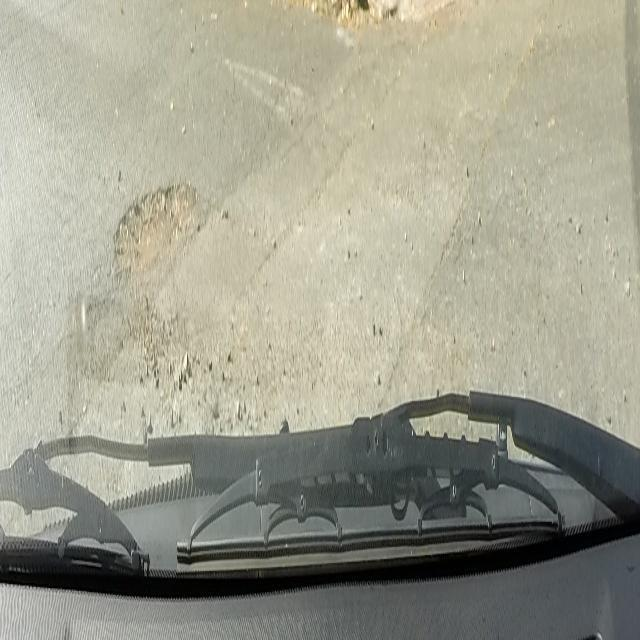pothole: (112, 180, 200, 290)
